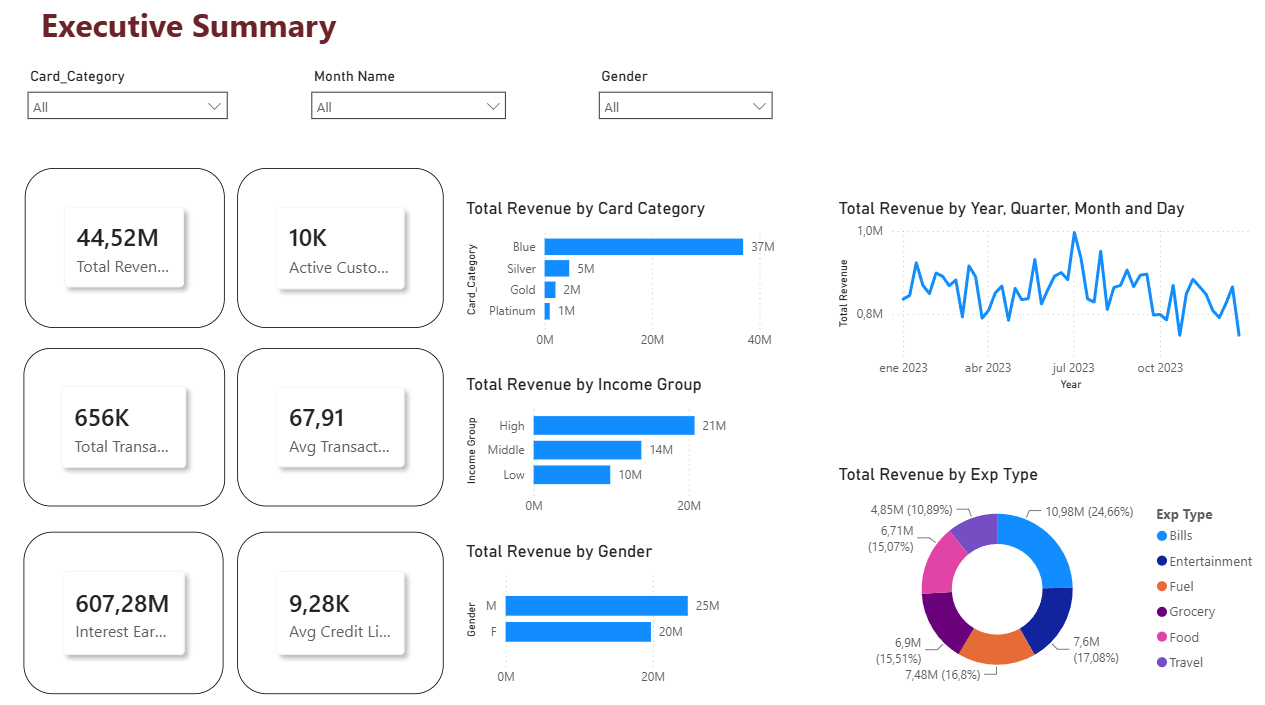

The dashboard page shown, as its layout file describes it:
{"tool":"powerbi","page":{"name":"Executive Summary","canvas":[1280,720],"ordinal":0},"visuals":[{"type":"cardVisual","fields":{"Data":["Measure.Total Revenue"]},"box":[28.8,170,200,160],"z":0},{"type":"cardVisual","fields":{"Data":["Measure.Total Transactions"]},"box":[27.5,350,201.2,158.8],"z":1000},{"type":"cardVisual","fields":{"Data":["Measure.Interest Earned"]},"box":[27.5,533.8,200,162.5],"z":2000},{"type":"cardVisual","fields":{"Data":["Measure.Active Customers"]},"box":[241.2,170,206.2,160],"z":3000},{"type":"cardVisual","fields":{"Data":["Measure.Avg Transaction Value"]},"box":[241.2,350,206.2,158.8],"z":4000},{"type":"cardVisual","fields":{"Data":["Measure.Avg Credit Limit"]},"box":[241.2,533.8,206.2,162.5],"z":5000},{"type":"lineChart","fields":{"Y":["Measure.Total Revenue"],"Category":["DateTable.Date.Variation.Date Hierarchy.Year","DateTable.Date.Variation.Date Hierarchy.Quarter","DateTable.Date.Variation.Date Hierarchy.Month","DateTable.Date.Variation.Date Hierarchy.Day"]},"box":[837.5,200,433.8,197.5],"z":6000},{"type":"clusteredBarChart","title":"Total Revenue by Card Category","fields":{"Y":["Measure.Total Revenue"],"Category":["credit_card.Card_Category"]},"box":[465,200,331.2,160],"z":7000},{"type":"clusteredBarChart","fields":{"Category":["customer.Gender"],"Y":["Measure.Total Revenue"]},"box":[465,542.5,282.5,155],"z":8000},{"type":"donutChart","fields":{"Y":["Measure.Total Revenue"],"Category":["credit_card.Exp Type"]},"box":[837.5,466.2,433.8,231.2],"z":9000},{"type":"slicer","fields":{"Values":["credit_card.Card_Category"]},"box":[21.2,65,220,67.5],"z":10000},{"type":"slicer","fields":{"Values":["customer.Gender"]},"box":[592.5,65,193.8,67.5],"z":11000},{"type":"slicer","fields":{"Values":["DateTable.Month Name"]},"box":[305,65,215,67.5],"z":12000},{"type":"clusteredBarChart","fields":{"Category":["customer.Income Group"],"Y":["Measure.Total Revenue"]},"box":[465,376.2,322.5,150],"z":13000},{"type":"textbox","box":[40,0,336.2,55],"z":14000}]}

Visuals, with their boxes in screenshot pixels (x1, y1, x2, y2), scaled from the page's 1280x720 canvas onto the 1265x705 screenshot:
cardVisual - Measure.Total Revenue: pyautogui.locateOnScreen(28, 166, 226, 323)
cardVisual - Measure.Total Transactions: pyautogui.locateOnScreen(27, 343, 226, 498)
cardVisual - Measure.Interest Earned: pyautogui.locateOnScreen(27, 523, 225, 682)
cardVisual - Measure.Active Customers: pyautogui.locateOnScreen(238, 166, 442, 323)
cardVisual - Measure.Avg Transaction Value: pyautogui.locateOnScreen(238, 343, 442, 498)
cardVisual - Measure.Avg Credit Limit: pyautogui.locateOnScreen(238, 523, 442, 682)
lineChart - Measure.Total Revenue x DateTable.Date.Variation.Date Hierarchy.Year: pyautogui.locateOnScreen(828, 196, 1256, 389)
"Total Revenue by Card Category" clusteredBarChart: pyautogui.locateOnScreen(460, 196, 787, 352)
clusteredBarChart - customer.Gender x Measure.Total Revenue: pyautogui.locateOnScreen(460, 531, 739, 683)
donutChart - Measure.Total Revenue x credit_card.Exp Type: pyautogui.locateOnScreen(828, 456, 1256, 683)
slicer - credit_card.Card_Category: pyautogui.locateOnScreen(21, 64, 238, 130)
slicer - customer.Gender: pyautogui.locateOnScreen(586, 64, 777, 130)
slicer - DateTable.Month Name: pyautogui.locateOnScreen(301, 64, 514, 130)
clusteredBarChart - customer.Income Group x Measure.Total Revenue: pyautogui.locateOnScreen(460, 368, 778, 515)
textbox: pyautogui.locateOnScreen(40, 0, 372, 54)
